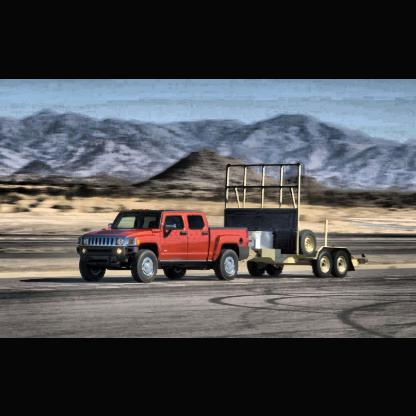HUMMER H3T Crew Cab 2010: (79, 209, 252, 283)
